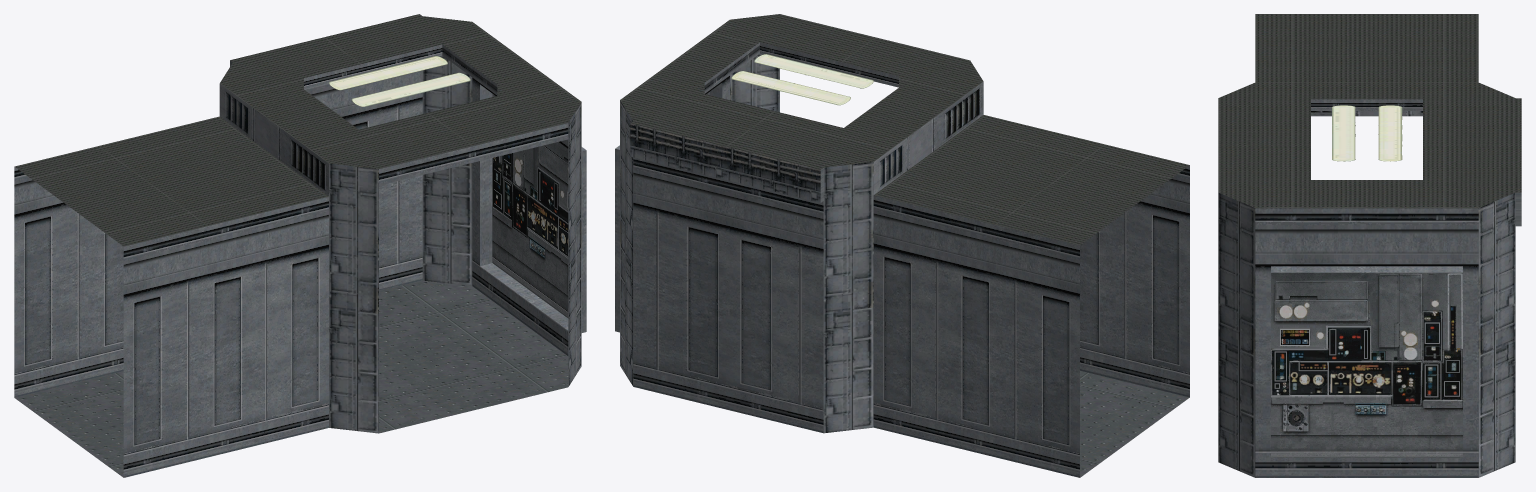
Rendered from poi_all_impl_bunker_imperial_prison_s01_r3_hall2_mesh_r3.fbx.
3 views of the same model, side by side, from view 1: azimuth 30°, elevation 25°; view 2: azimuth 150°, elevation 25°; view 3: azimuth 270°, elevation 25° (orthographic). The views are drawn at different scales.
Parts seen in each view (by area): view 1: mesh_node; view 2: mesh_node; view 3: mesh_node.
Part boxes in pixels (x1,y1,x2,y2): mesh_node: [14, 14, 586, 477]; mesh_node: [615, 14, 1189, 477]; mesh_node: [1218, 14, 1521, 477].
Bounding box in the file's own units: 7.45 × 4.17 × 4.08.
